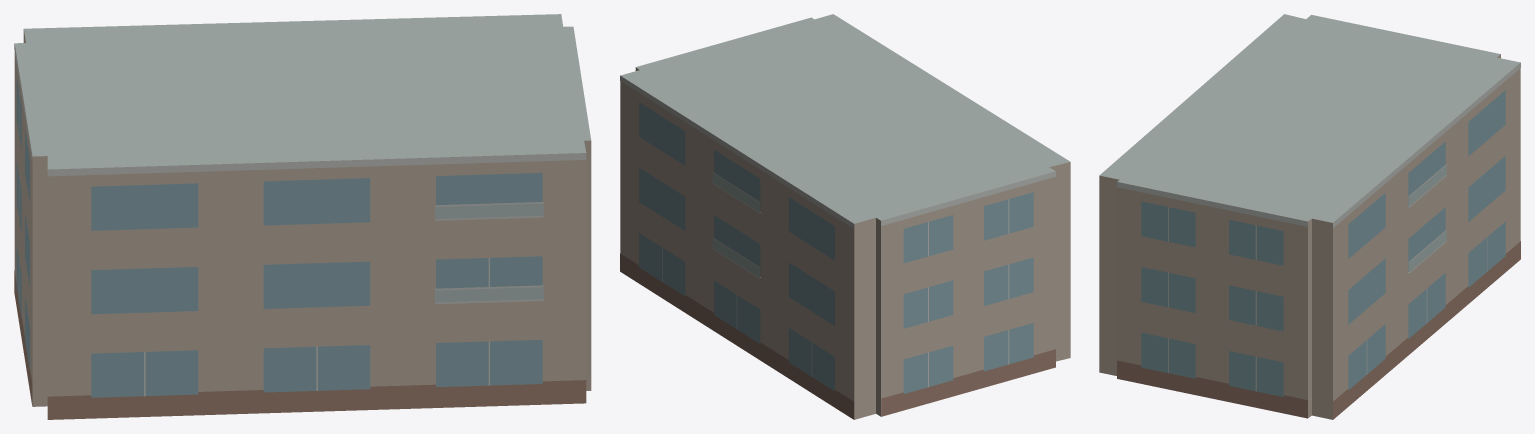
The model's file is survey-upis-33000393.glb.
3 renders of one model, left to right at view 1: azimuth 30°, elevation 25°; view 2: azimuth 150°, elevation 25°; view 3: azimuth 270°, elevation 25°, orthographic. The views are drawn at different scales.
Visible parts, largest first — view 1: survey-upis-33000393.tmp; view 2: survey-upis-33000393.tmp; view 3: survey-upis-33000393.tmp.
Boxes of the visible parts, x1,y1,x2,y2 form: survey-upis-33000393.tmp: (14, 14, 591, 419); survey-upis-33000393.tmp: (620, 14, 1070, 419); survey-upis-33000393.tmp: (1099, 14, 1520, 419).
Bounding box in the file's own units: 20.26 × 8.9 × 17.27.
